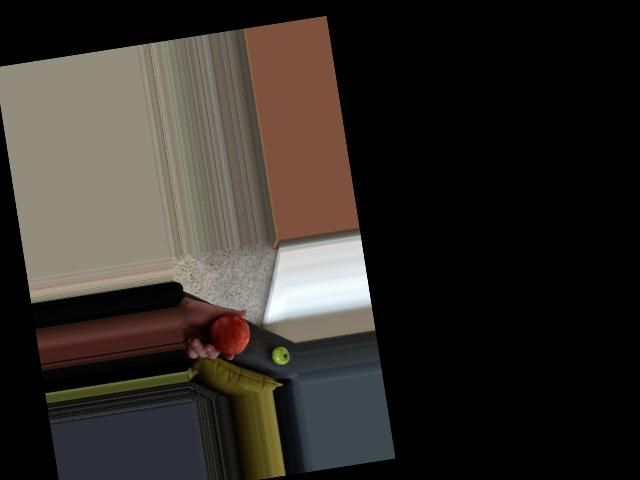apple: (265, 344, 293, 372)
